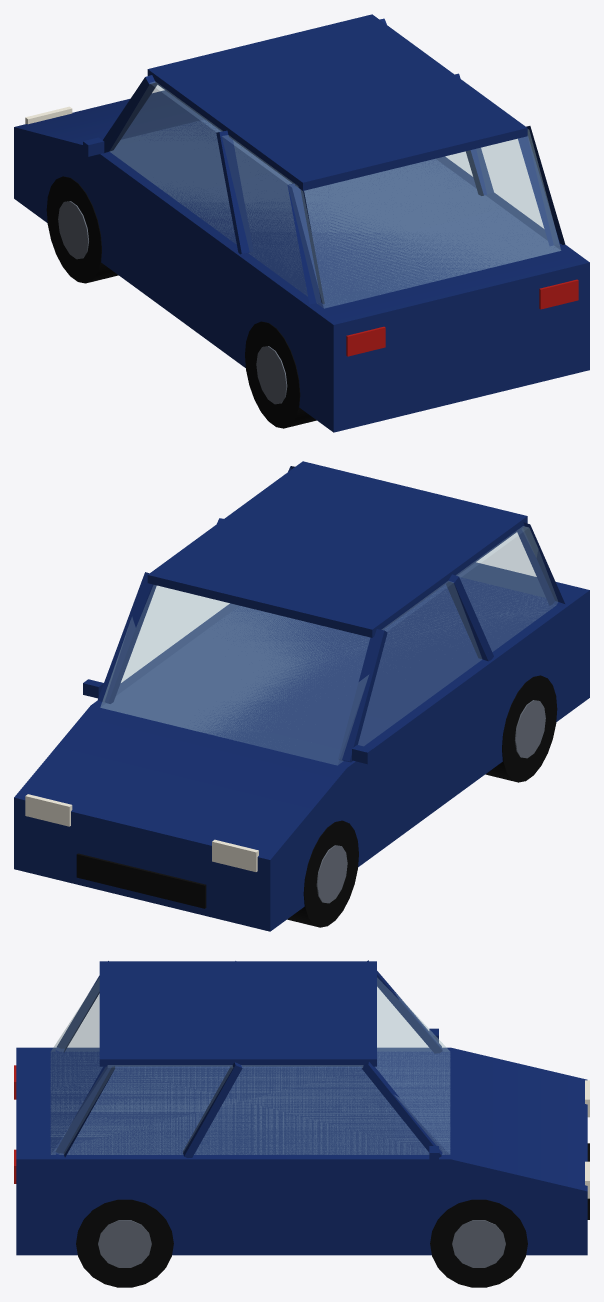
The model's file is vehicle.car.city_blue.glb.
3 renders of one model, top to bottom at view 1: azimuth 30°, elevation 25°; view 2: azimuth 150°, elevation 25°; view 3: azimuth 270°, elevation 25°, orthographic. The views are drawn at different scales.
Visible parts, largest first — view 1: main__car_blue, main__glass, main__rubber, main__steel_painted, main__hazard_red; view 2: main__car_blue, main__glass, main__rubber, main__plastic_black, main__steel_painted, main__light_emitter; view 3: main__car_blue, main__glass, main__rubber, main__steel_painted.
Part boxes in pixels (bbox=[...]): main__car_blue: bbox=[14, 14, 589, 432]; main__glass: bbox=[109, 82, 560, 308]; main__rubber: bbox=[46, 176, 316, 428]; main__steel_painted: bbox=[58, 201, 287, 404]; main__hazard_red: bbox=[346, 279, 578, 356]; main__car_blue: bbox=[14, 461, 589, 931]; main__glass: bbox=[100, 526, 557, 764]; main__rubber: bbox=[287, 675, 557, 927]; main__plastic_black: bbox=[76, 853, 206, 908]; main__steel_painted: bbox=[316, 700, 545, 903]; main__light_emitter: bbox=[25, 794, 258, 871]; main__car_blue: bbox=[16, 960, 587, 1255]; main__glass: bbox=[51, 977, 449, 1154]; main__rubber: bbox=[76, 1199, 527, 1287]; main__steel_painted: bbox=[98, 1220, 505, 1267].
Bounding box in the file's own units: 1.8 × 1.5 × 3.53.
